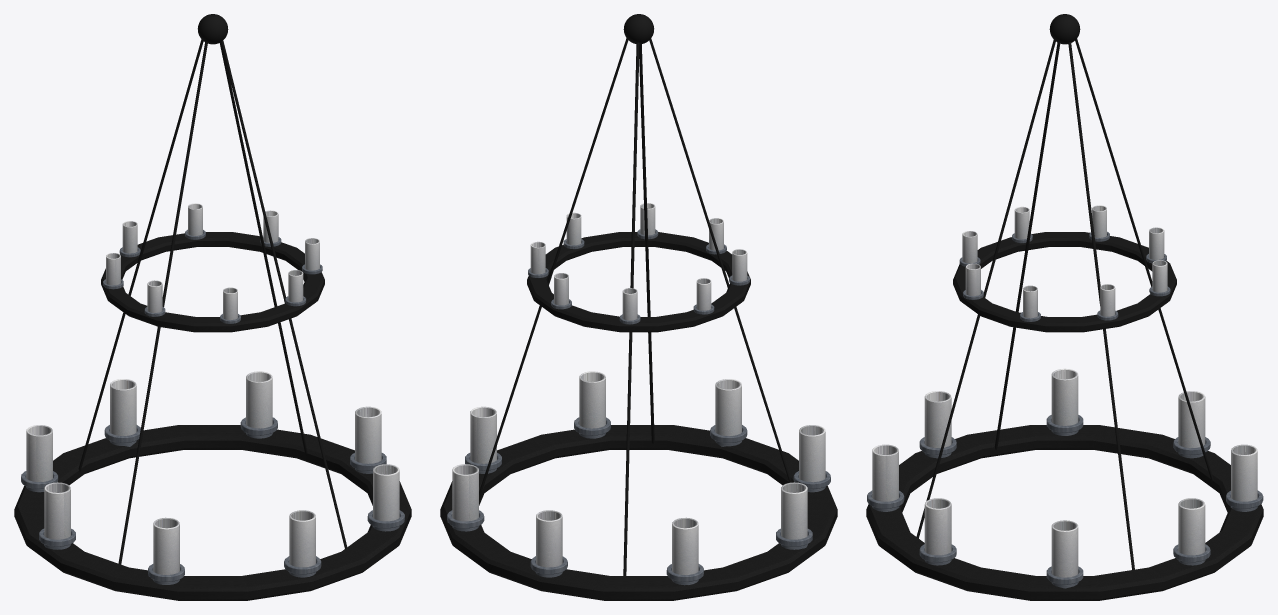
The model's file is Candle shandallier.FBX.
3 views of the same model, side by side, from view 1: azimuth 30°, elevation 25°; view 2: azimuth 150°, elevation 25°; view 3: azimuth 270°, elevation 25° (orthographic).
Parts seen in each view (by area): view 1: Candle shandalier; view 2: Candle shandalier; view 3: Candle shandalier.
Part boxes in pixels (x1,y1,x2,y2): Candle shandalier: (14, 14, 411, 600); Candle shandalier: (440, 14, 837, 600); Candle shandalier: (866, 14, 1263, 600).
Size of the model in its own units: 110 by 155 by 111.
Materials: 3 (3 with a texture image).
